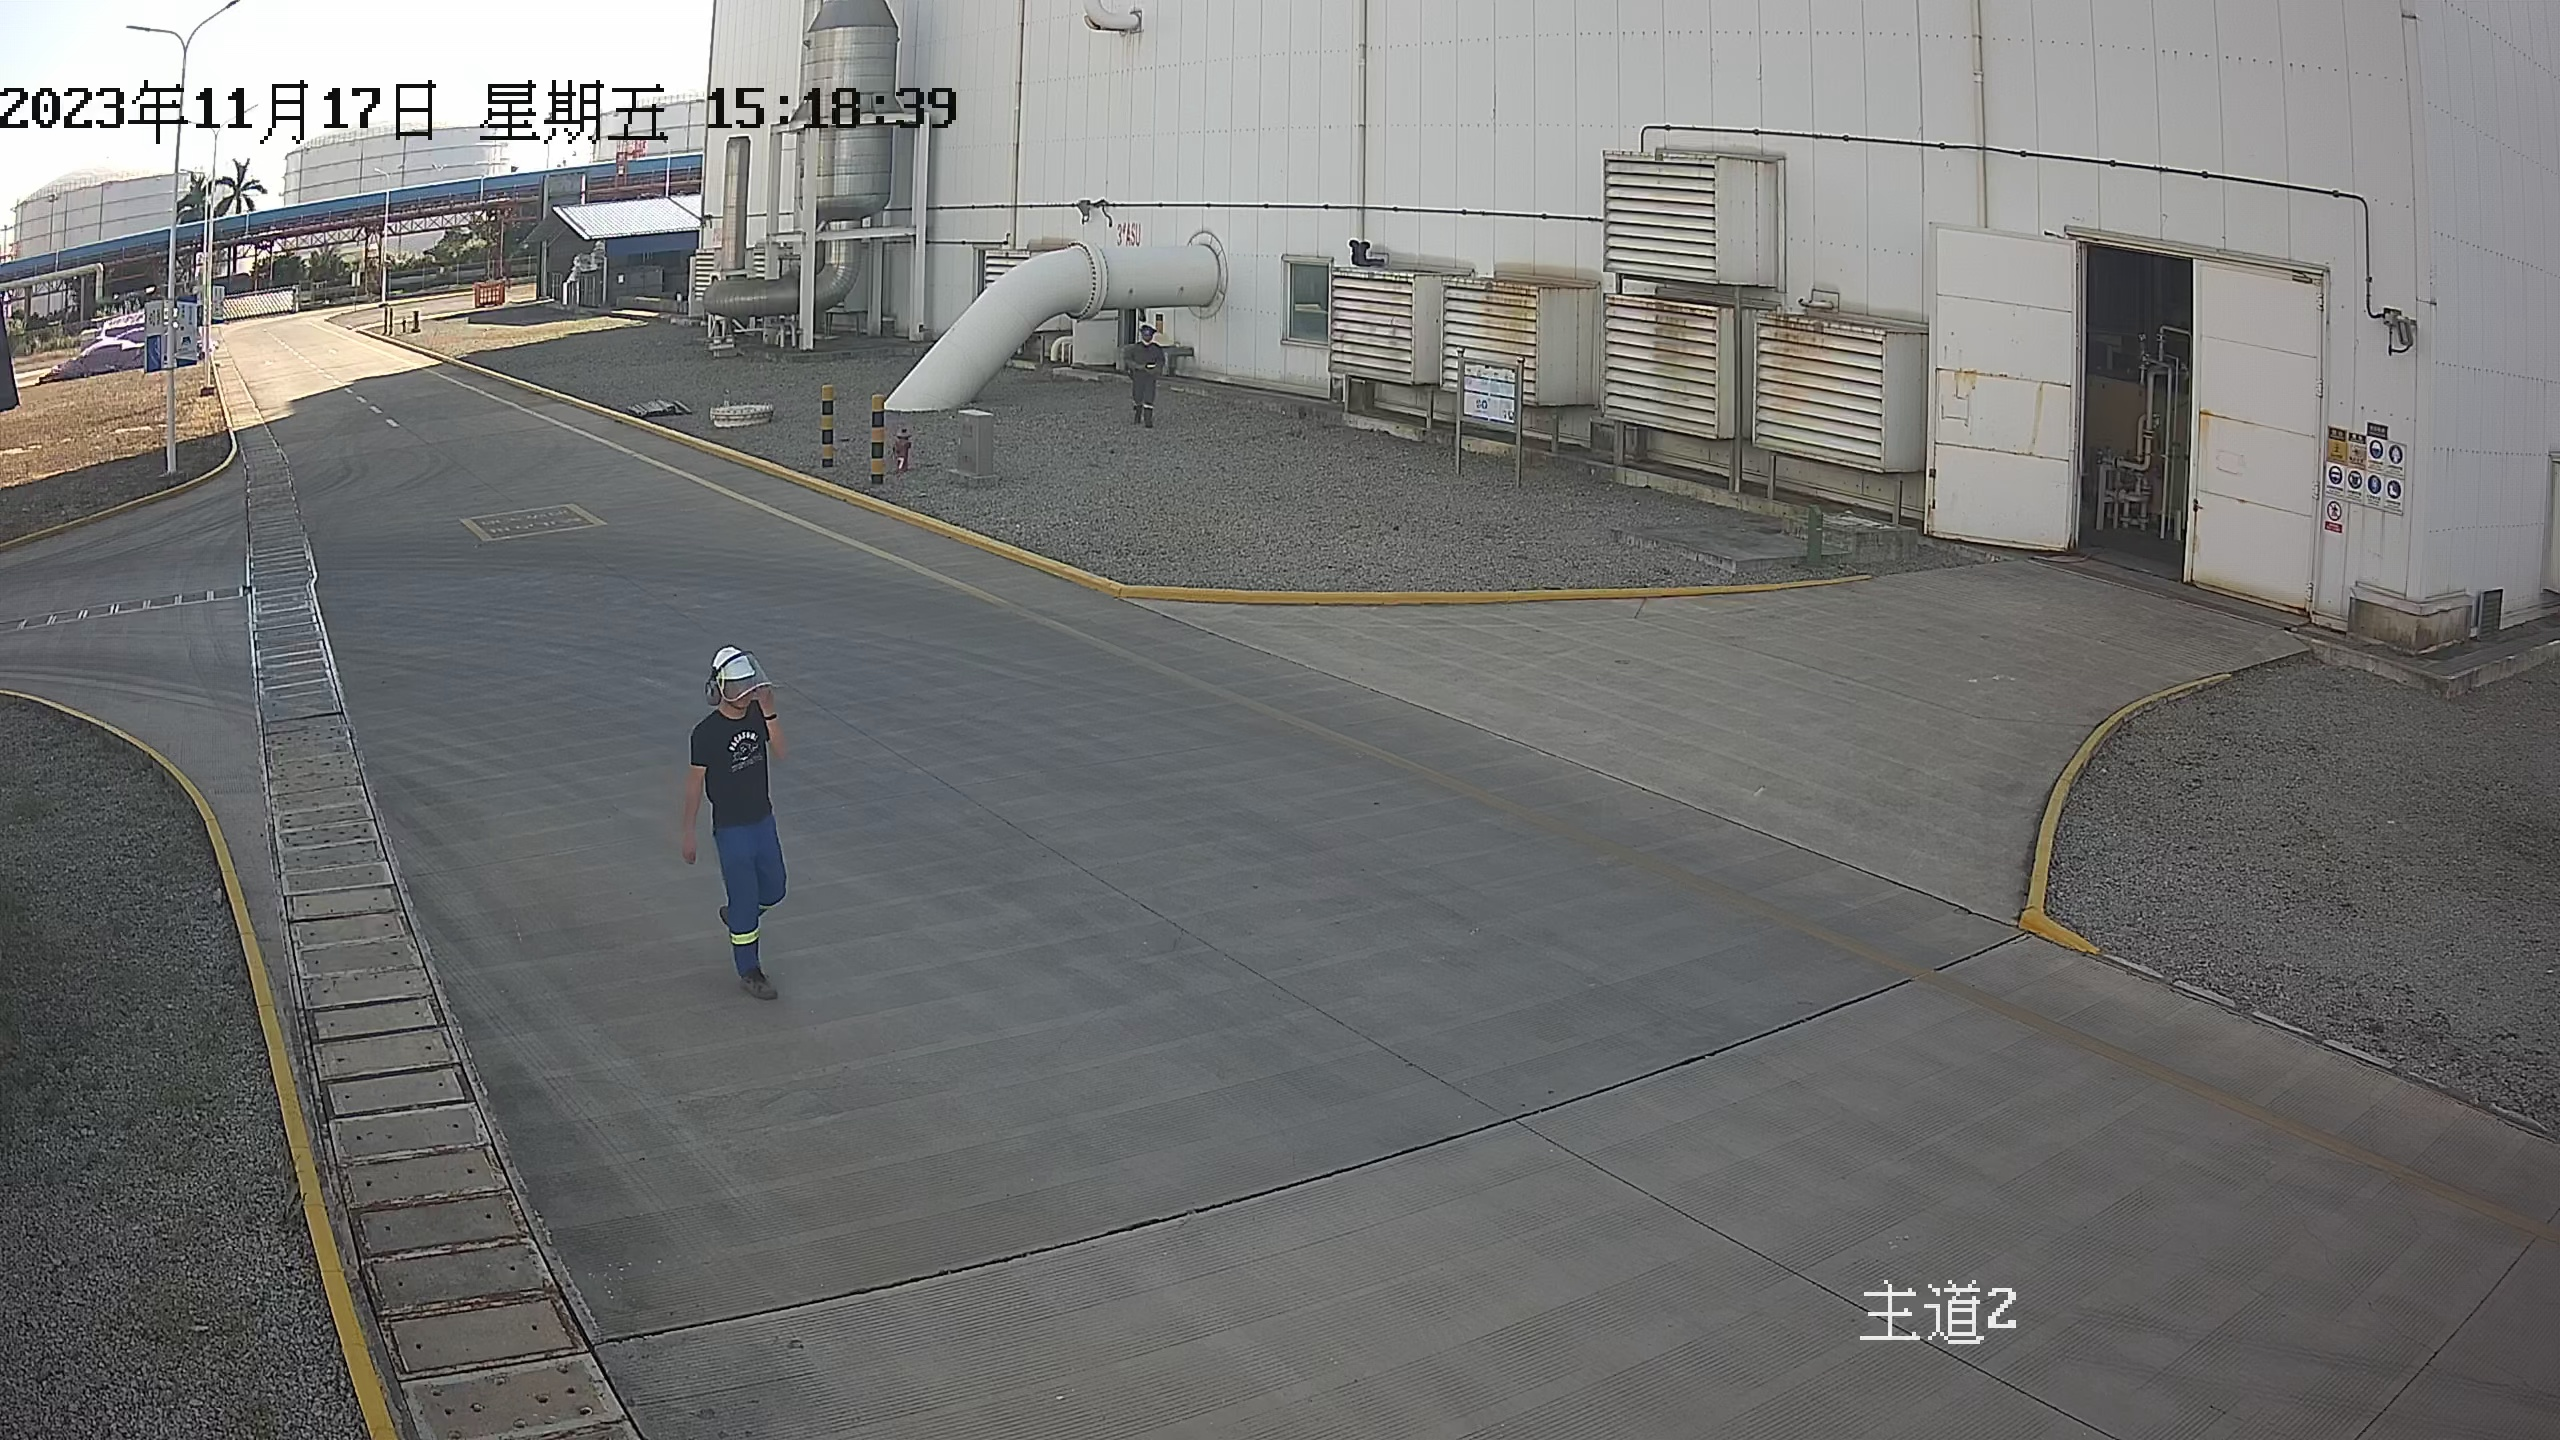Body_without_uniform: (645, 698, 853, 1010)
Head_with_Helmet: (667, 637, 780, 713), (1130, 320, 1163, 349)
Uniform: (1118, 340, 1182, 433)
